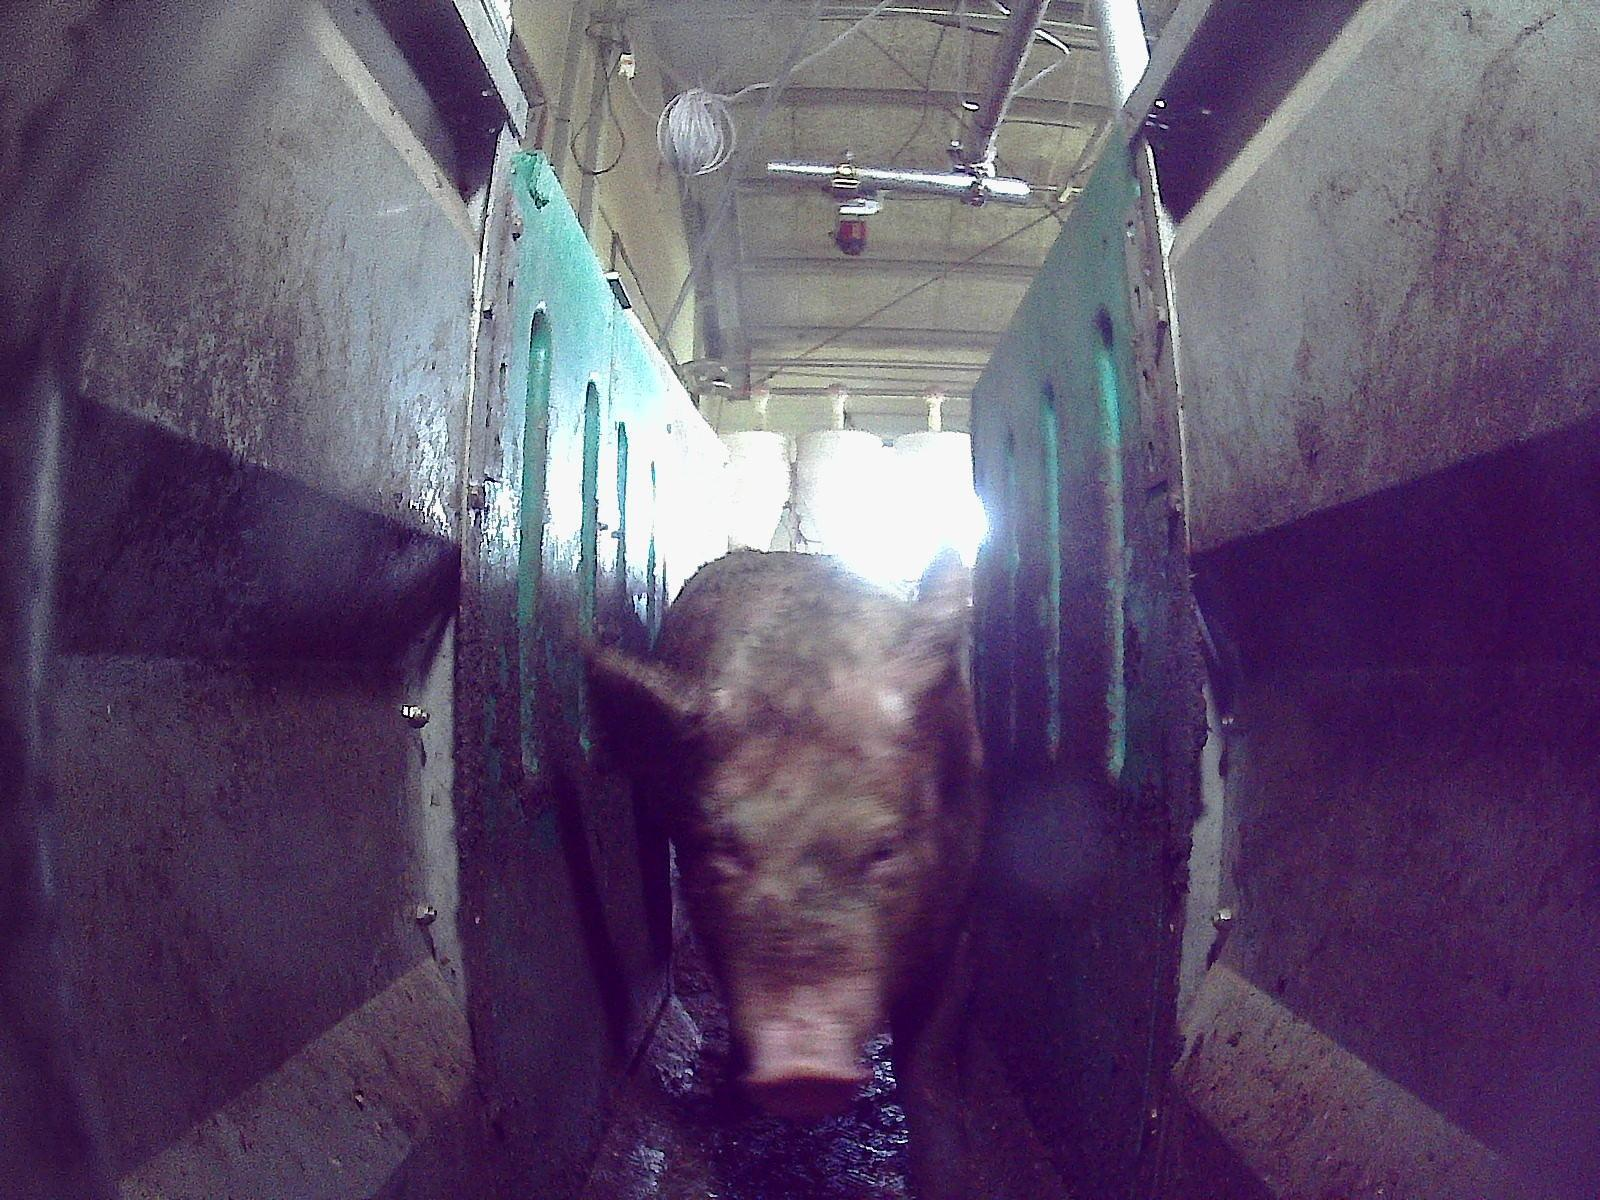Face: (681, 688, 939, 1113)
